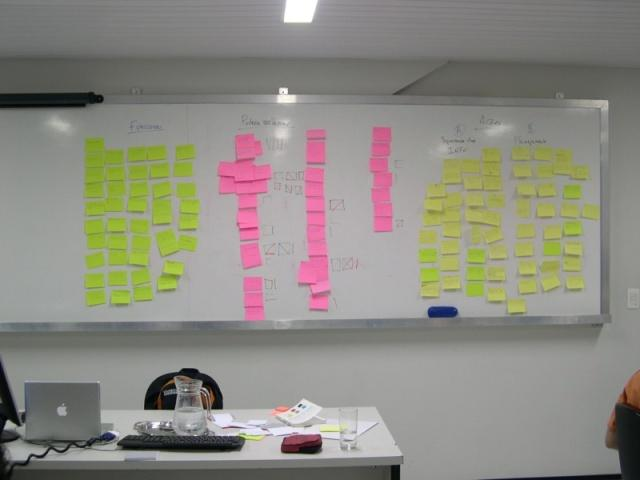Meja: (0, 405, 404, 479)
Whiteboard: (0, 90, 611, 331)
